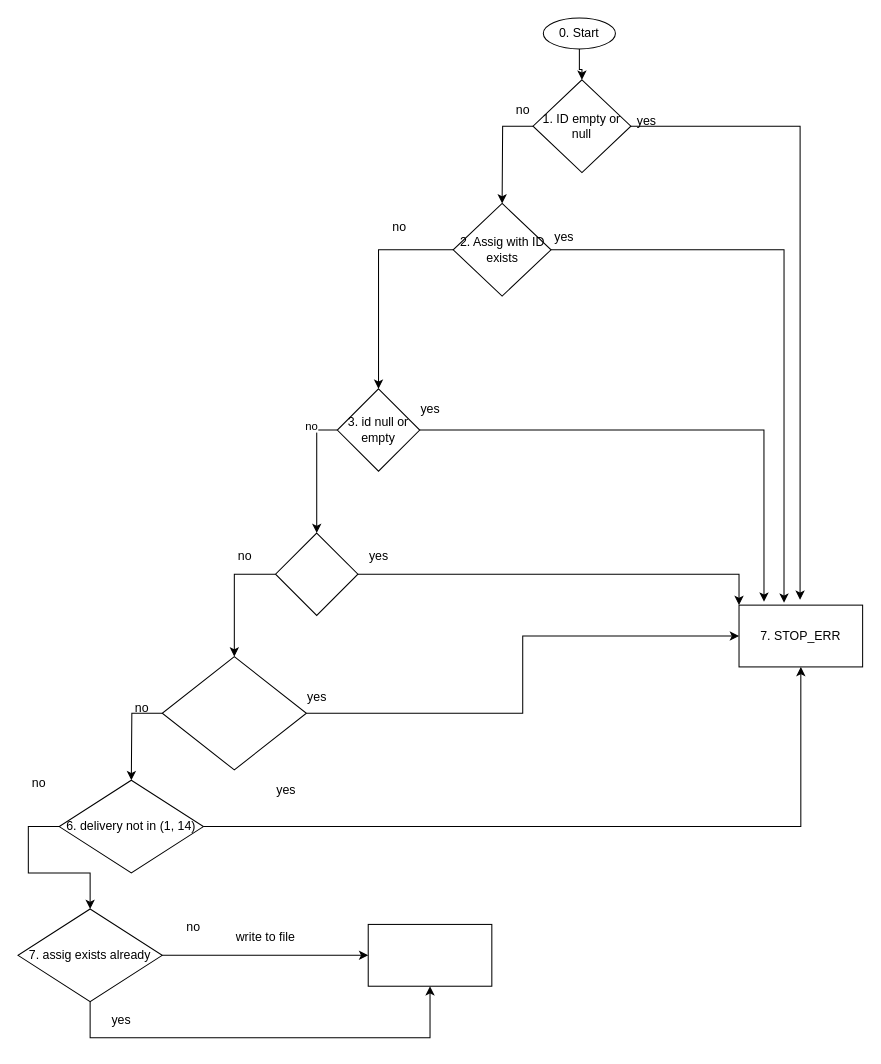
Some shapes in this 881 by 1064 pixel diagram are drawn without their labels. The centre of each missing label's shape, as x and y in pixels:
4. description empty: point 316,573
5. deadline not in (1, 14): point 233,713
8. STOP_SUCCESS: point 429,954
